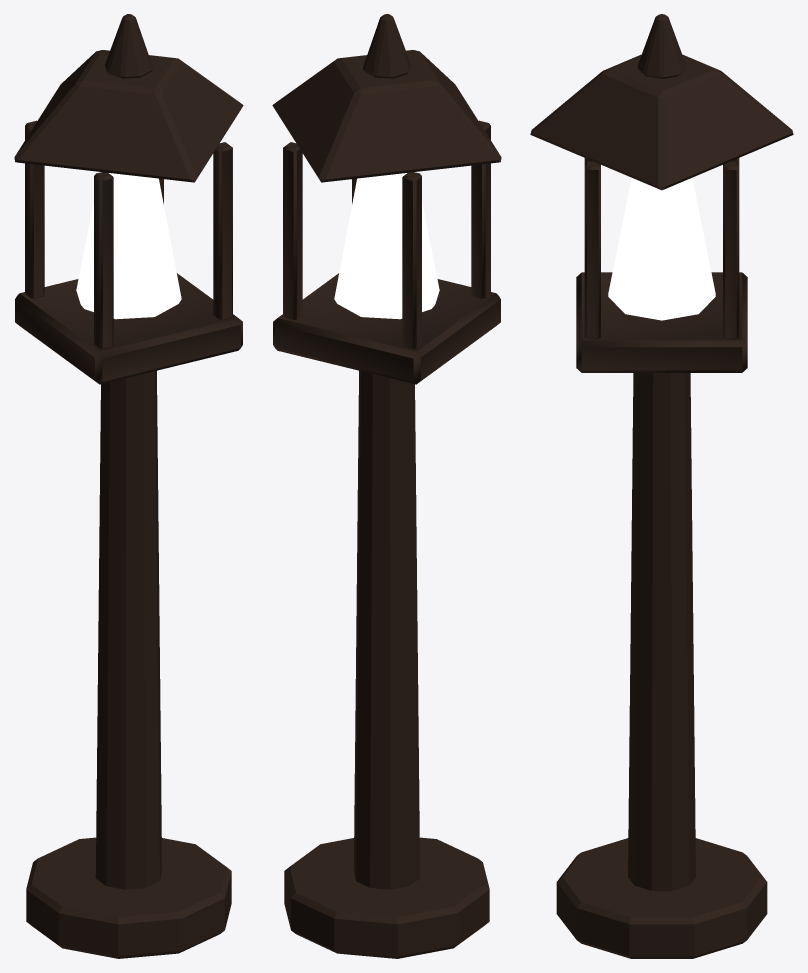
File: prop_lantern.glb
The picture shows the model from 3 angles, left to right: view 1: azimuth 30°, elevation 25°; view 2: azimuth 150°, elevation 25°; view 3: azimuth 270°, elevation 25°; orthographic projection.
Visible parts, largest first — view 1: lant_pole, lant_roof, lant_base, lant_floor, GlowCore, lant_frame_-0.105_-0.105, lant_frame_0.105_-0.105, lant_frame_-0.105_0.105, lant_finial; view 2: lant_pole, lant_roof, lant_base, lant_floor, GlowCore, lant_frame_-0.105_0.105, lant_frame_0.105_0.105, lant_frame_-0.105_-0.105, lant_finial; view 3: lant_pole, lant_roof, lant_base, GlowCore, lant_floor, lant_frame_0.105_0.105, lant_frame_0.105_-0.105, lant_finial.
Boxes of the visible parts, x1,y1,x2,y2 form: lant_pole: [95, 370, 162, 889]; lant_roof: [14, 50, 243, 182]; lant_base: [26, 837, 231, 958]; lant_floor: [15, 273, 242, 384]; GlowCore: [76, 172, 181, 319]; lant_frame_-0.105_-0.105: [94, 172, 113, 349]; lant_frame_0.105_-0.105: [213, 142, 232, 319]; lant_frame_-0.105_0.105: [25, 120, 44, 298]; lant_finial: [105, 14, 152, 78]; lant_pole: [353, 370, 420, 889]; lant_roof: [272, 50, 501, 182]; lant_base: [284, 837, 489, 958]; lant_floor: [273, 273, 500, 384]; GlowCore: [334, 172, 439, 319]; lant_frame_-0.105_0.105: [402, 172, 421, 349]; lant_frame_0.105_0.105: [283, 142, 302, 319]; lant_frame_-0.105_-0.105: [471, 120, 490, 298]; lant_finial: [363, 14, 410, 78]; lant_pole: [628, 373, 695, 890]; lant_roof: [530, 54, 793, 190]; lant_base: [556, 838, 767, 958]; GlowCore: [608, 178, 715, 320]; lant_floor: [576, 272, 747, 372]; lant_frame_0.105_0.105: [723, 161, 739, 338]; lant_frame_0.105_-0.105: [584, 161, 600, 338]; lant_finial: [637, 14, 686, 78].
Bounding box in the file's own units: 0.4002 × 1.52 × 0.4002.
